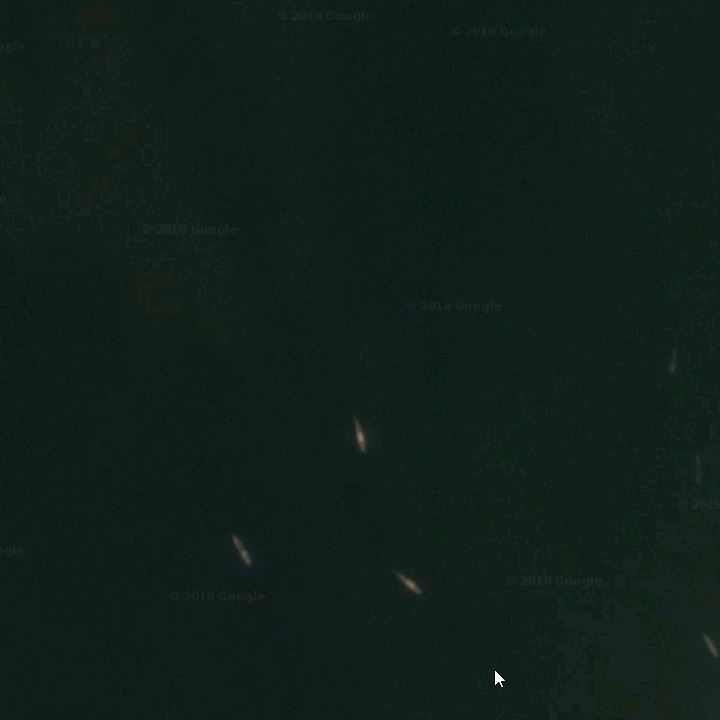boat: (225, 523, 262, 580), (385, 566, 433, 602), (346, 413, 372, 459), (693, 626, 720, 670)
